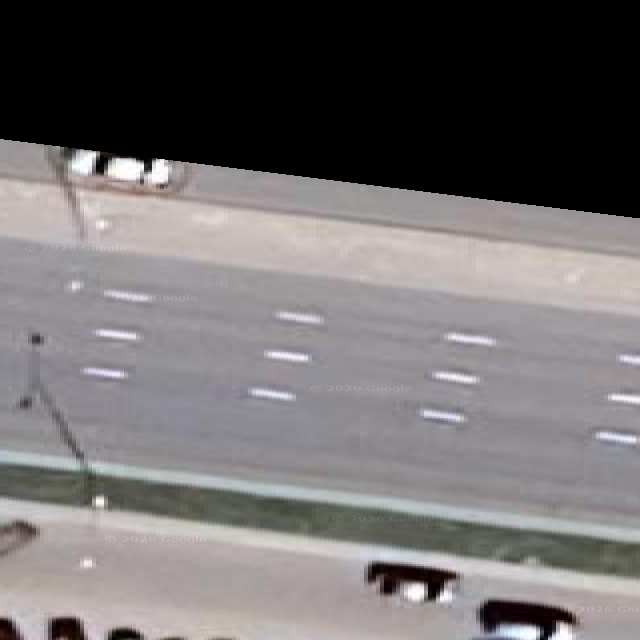car: (47, 147, 190, 192), (476, 599, 577, 639), (364, 562, 460, 602), (65, 150, 168, 187), (33, 617, 96, 639), (0, 520, 37, 555), (48, 617, 84, 639), (0, 616, 30, 639), (100, 626, 150, 639), (0, 616, 22, 639), (107, 627, 143, 639), (155, 633, 187, 639), (207, 635, 236, 639)
